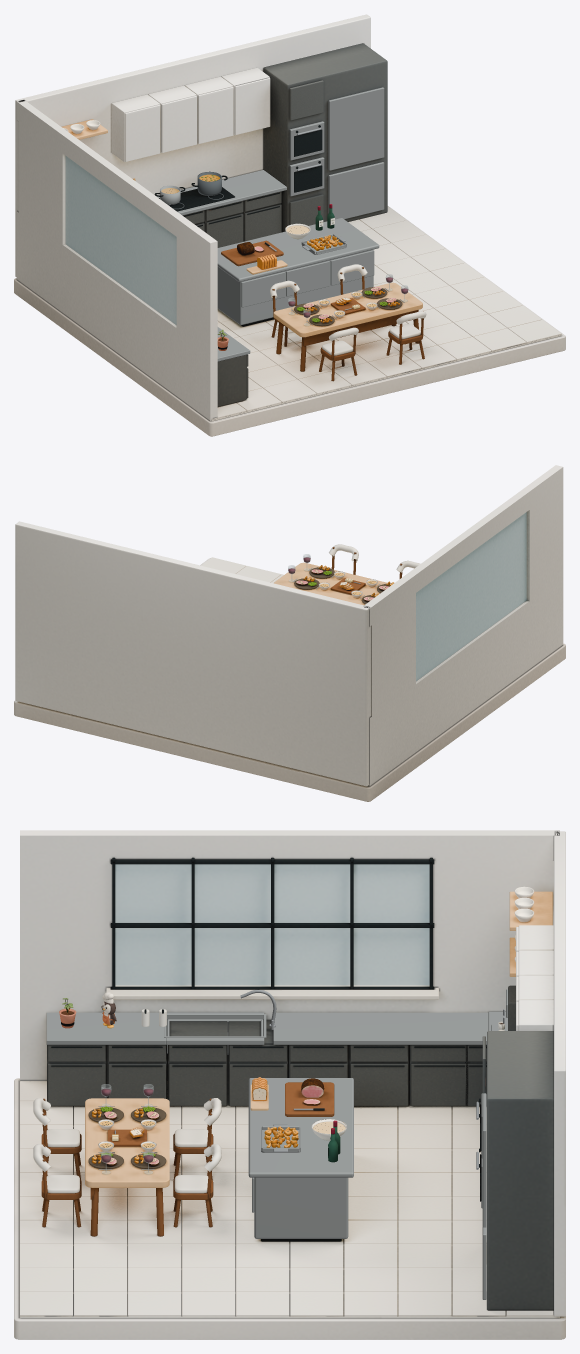
Rendered from social-kitchen-baked.glb.
The picture shows the model from 3 angles, top to bottom: view 1: azimuth 30°, elevation 25°; view 2: azimuth 150°, elevation 25°; view 3: azimuth 270°, elevation 25°; orthographic projection. The views are drawn at different scales.
Parts seen in each view (by area): view 1: Baked social-kitchen architecture, Baked social-kitchen details, Live glass and reflective metal; view 2: Baked social-kitchen architecture, Baked social-kitchen details; view 3: Baked social-kitchen architecture, Baked social-kitchen details, Live glass and reflective metal.
Part boxes in pixels (x1,y1,x2,y2): Baked social-kitchen architecture: (14, 14, 565, 436); Baked social-kitchen details: (63, 80, 561, 419); Live glass and reflective metal: (156, 87, 408, 361); Baked social-kitchen architecture: (14, 465, 565, 801); Baked social-kitchen details: (201, 544, 420, 603); Baked social-kitchen architecture: (14, 830, 565, 1339); Baked social-kitchen details: (20, 886, 554, 1316); Live glass and reflective metal: (46, 989, 507, 1299).
Size of the model in its own units: 7.6 by 3.91 by 7.3.
Materials: 7 (2 with a texture image).
